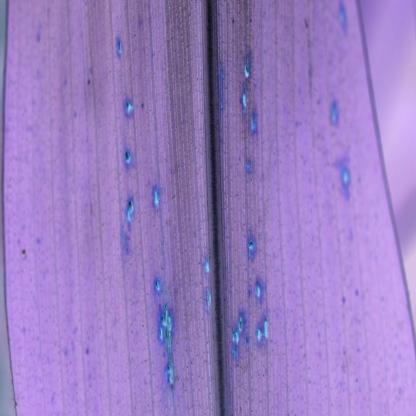corn rust leaf: (2, 1, 416, 415)
